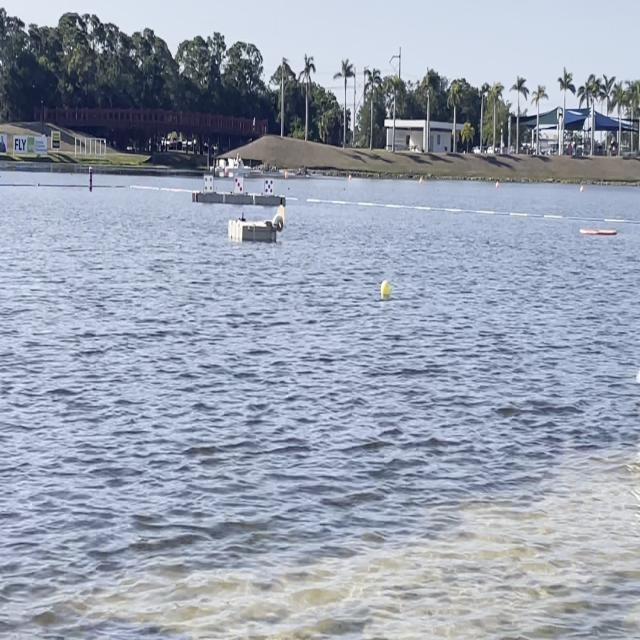buoy: (379, 276, 392, 299)
